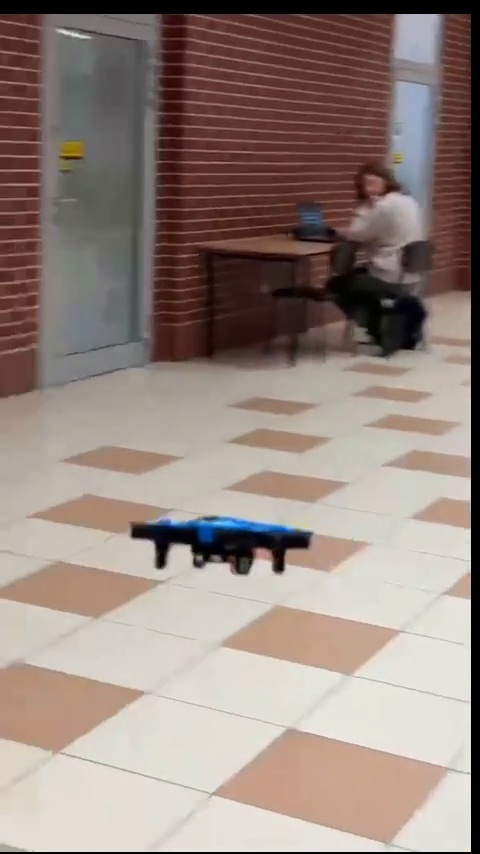drone: (135, 512, 319, 583)
no vest: (322, 164, 422, 337)
